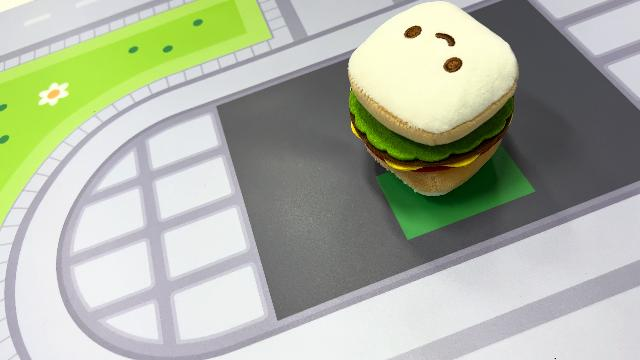sandwich: (343, 1, 521, 198)
